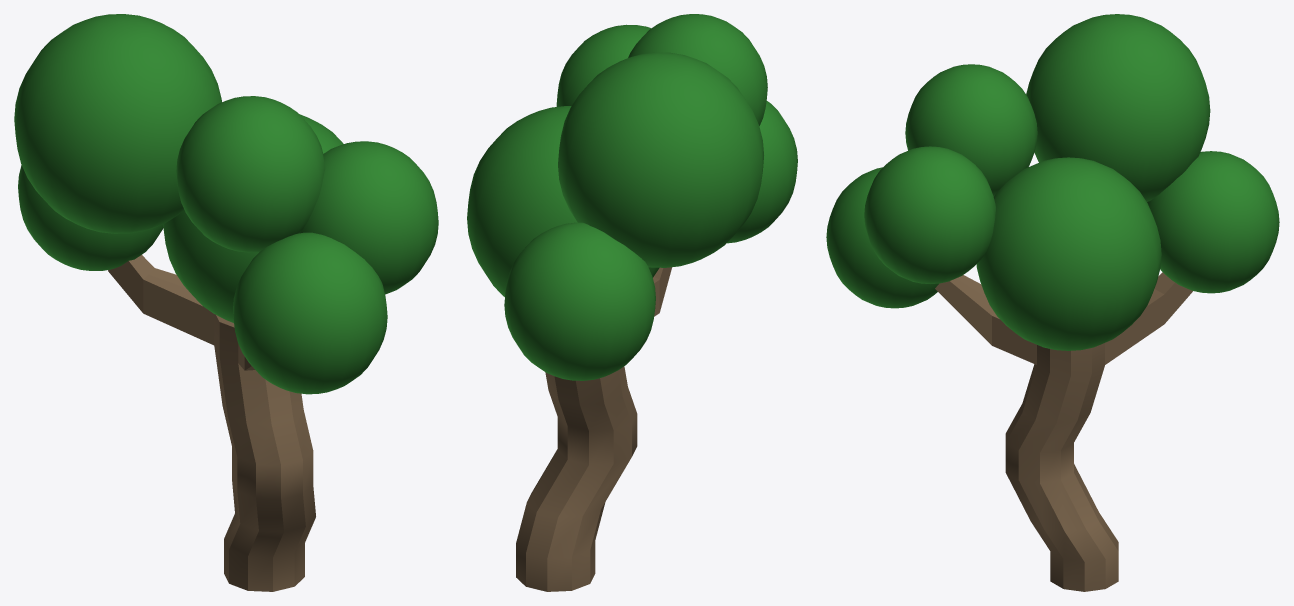
The model's file is tree1.fbx.
3 renders of one model, left to right at view 1: azimuth 30°, elevation 25°; view 2: azimuth 150°, elevation 25°; view 3: azimuth 270°, elevation 25°, orthographic. The views are drawn at different scales.
Parts seen in each view (by area): view 1: tree1; view 2: tree1; view 3: tree1.
Part boxes in pixels (box(x1,y1,x2,y2)): tree1: box(14, 14, 438, 591); tree1: box(467, 14, 797, 591); tree1: box(826, 14, 1279, 591).
Size of the model in its own units: 8.6 by 15.4 by 12.63.
